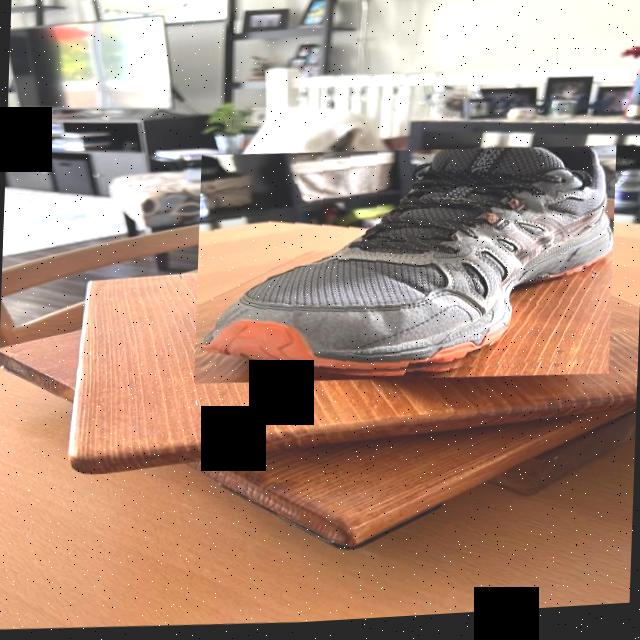shoe: (193, 138, 616, 400)
